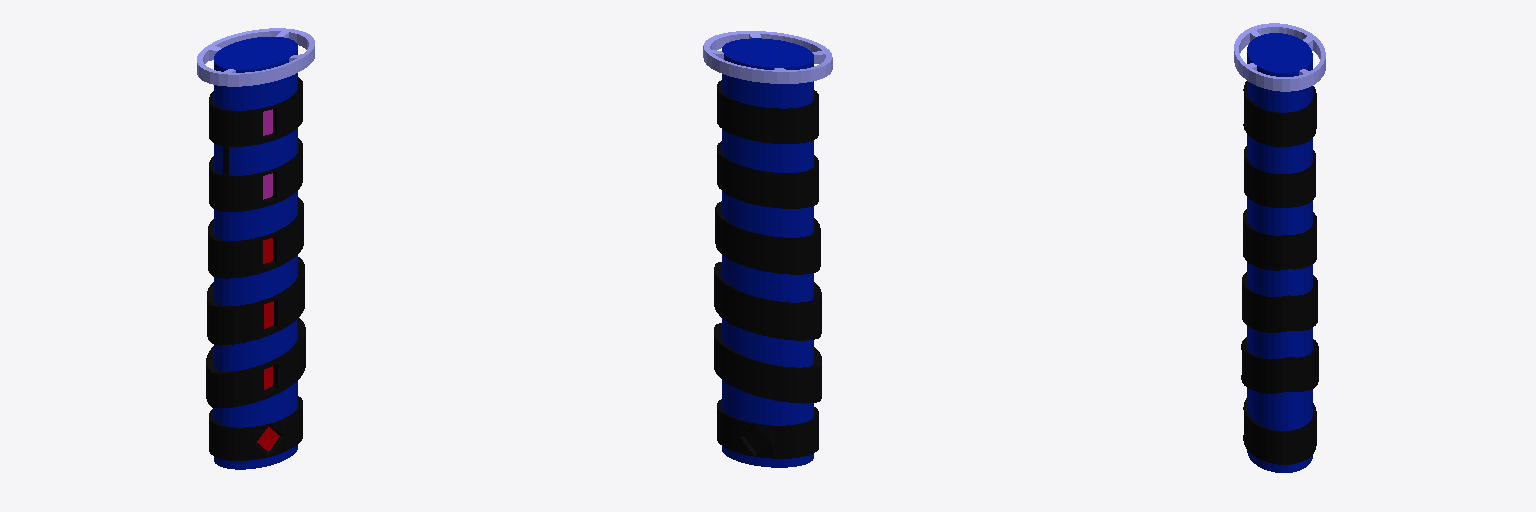
The model's file is scifi.obj.
3 views of the same model, side by side, from view 1: azimuth 30°, elevation 25°; view 2: azimuth 150°, elevation 25°; view 3: azimuth 270°, elevation 25° (orthographic).
Size of the model in its own units: 2.75 by 9.32 by 1.9.